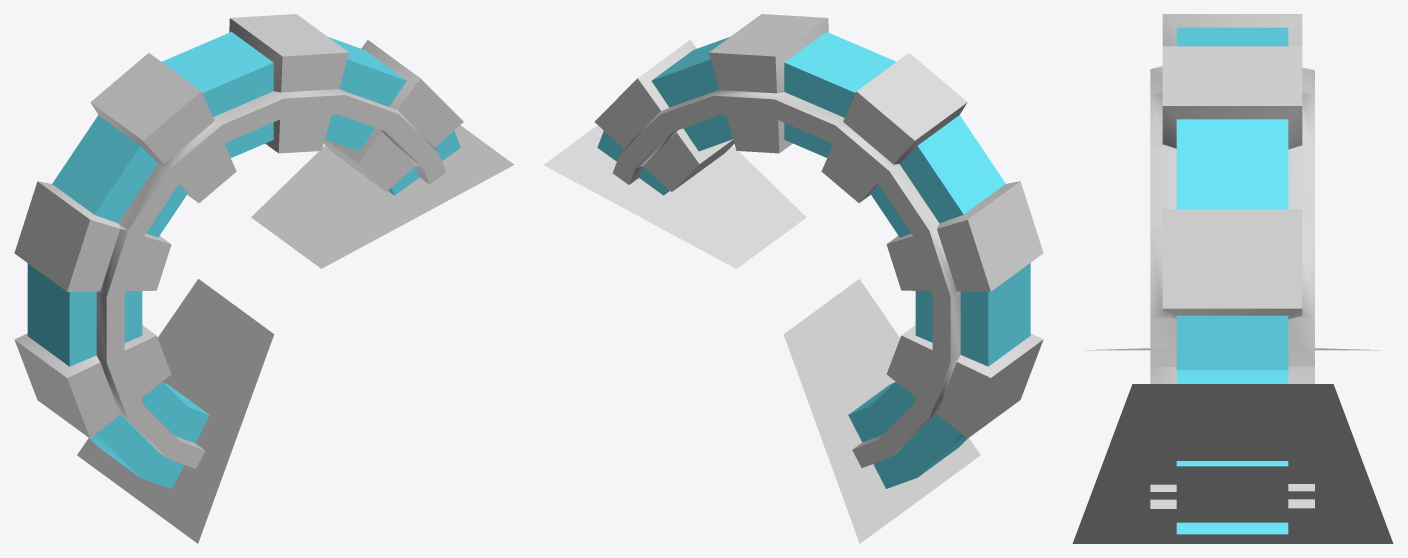
The model's file is Mod_Pauldron_R_Recon3.fbx.
3 views of the same model, side by side, from view 1: azimuth 30°, elevation 25°; view 2: azimuth 150°, elevation 25°; view 3: azimuth 270°, elevation 25° (orthographic). The views are drawn at different scales.
Parts seen in each view (by area): view 1: Mod_Pauldron_R_Recon3; view 2: Mod_Pauldron_R_Recon3; view 3: Mod_Pauldron_R_Recon3.
Part boxes in pixels (x1,y1,x2,y2): Mod_Pauldron_R_Recon3: (14, 14, 514, 543); Mod_Pauldron_R_Recon3: (544, 14, 1043, 543); Mod_Pauldron_R_Recon3: (1072, 14, 1393, 543).
Bounding box in the file's own units: 285 × 285 × 144.
